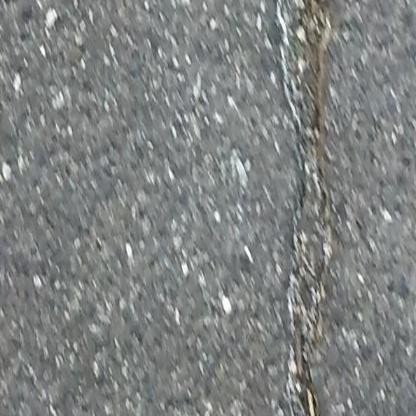Cracks: (277, 0, 339, 416)
